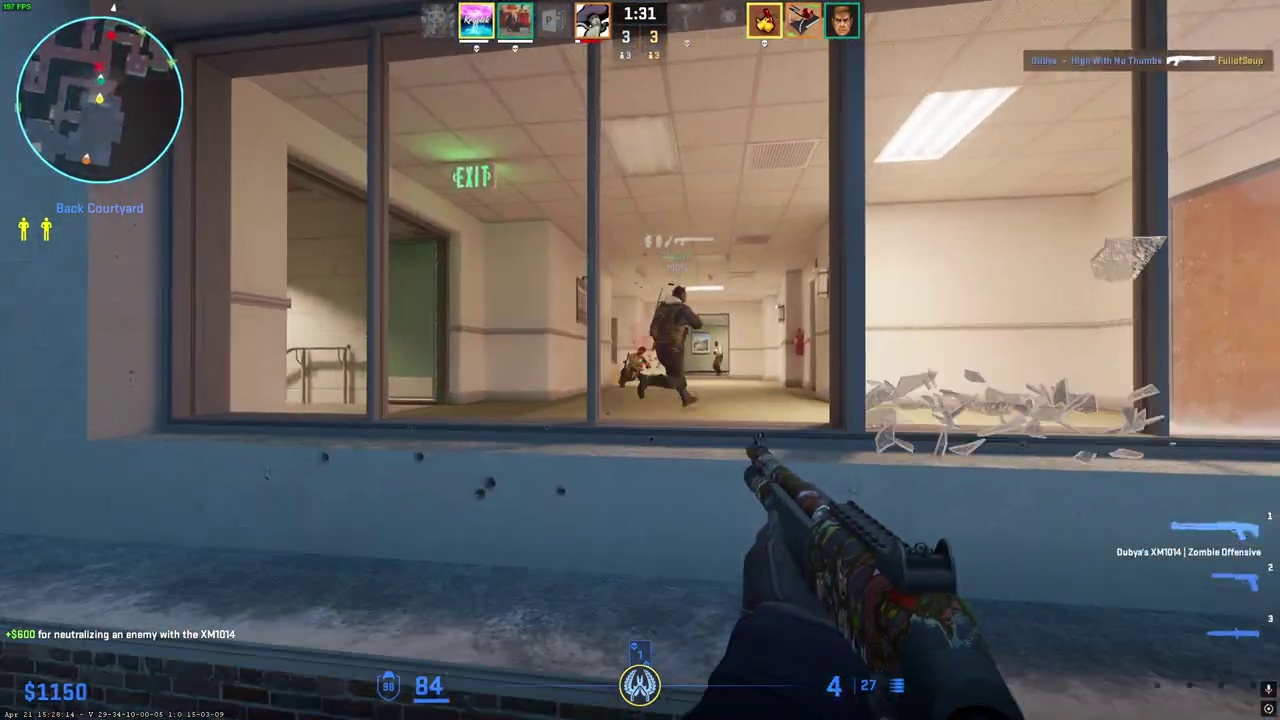CT: (641, 284, 697, 406), (620, 347, 650, 397)
Terrorist: (710, 342, 724, 375)
